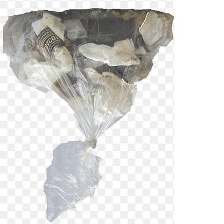plastic_bag: (0, 1, 176, 224)
